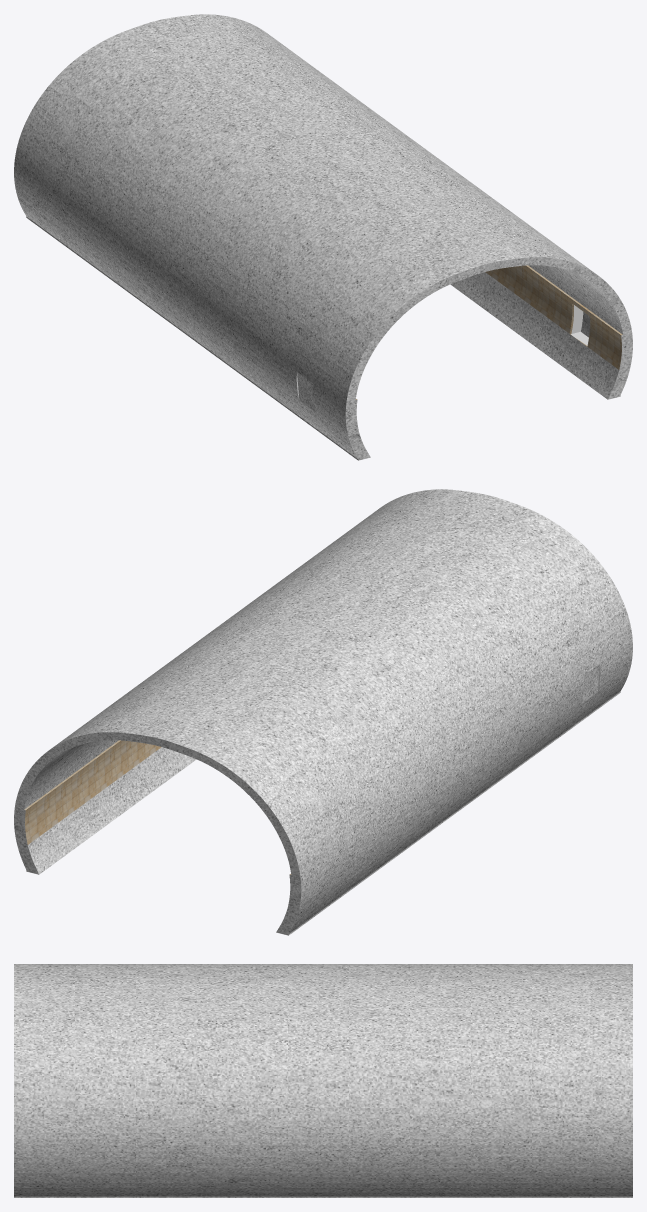
3 renders of one model, top to bottom at view 1: azimuth 30°, elevation 25°; view 2: azimuth 150°, elevation 25°; view 3: azimuth 270°, elevation 25°, orthographic. The views are drawn at different scales.
Parts seen in each view (by area): view 1: 隧道.001; view 2: 隧道.001; view 3: 隧道.001.
Part boxes in pixels (left/top/right/bottom): 隧道.001: left=14, top=14, right=632, bottom=460; 隧道.001: left=14, top=489, right=632, bottom=935; 隧道.001: left=14, top=964, right=632, bottom=1197.
Size of the model in its own units: 10 by 5.5 by 20.
3 materials, 3 textured.
